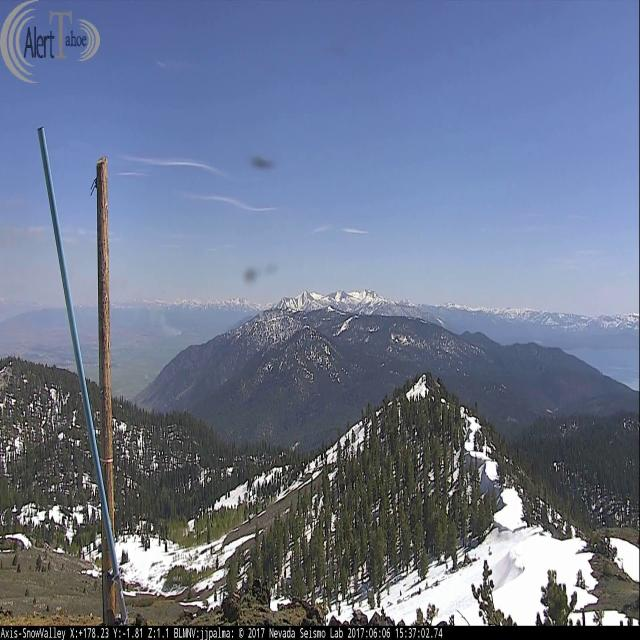smoke: (129, 294, 186, 338)
